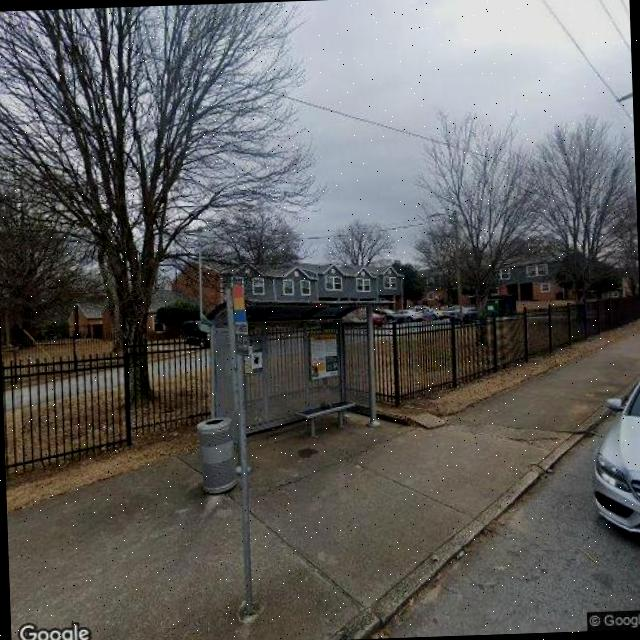seating: (294, 399, 358, 442)
shelter: (196, 294, 402, 474)
trash_can: (195, 415, 238, 493)
